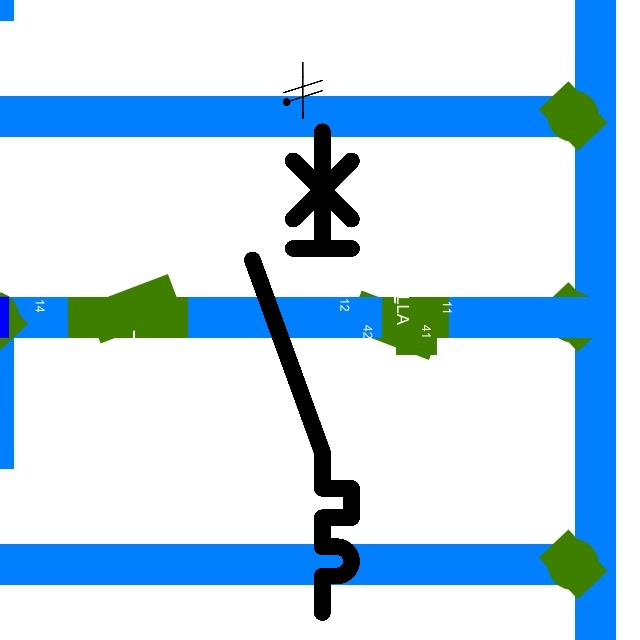interruptor_termomagnetico: (240, 119, 364, 625)
